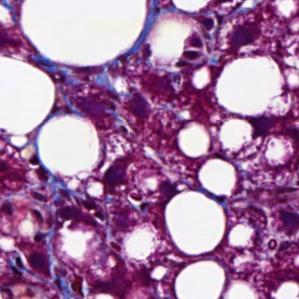inflammation: (27, 182, 104, 230), (180, 30, 215, 64)
